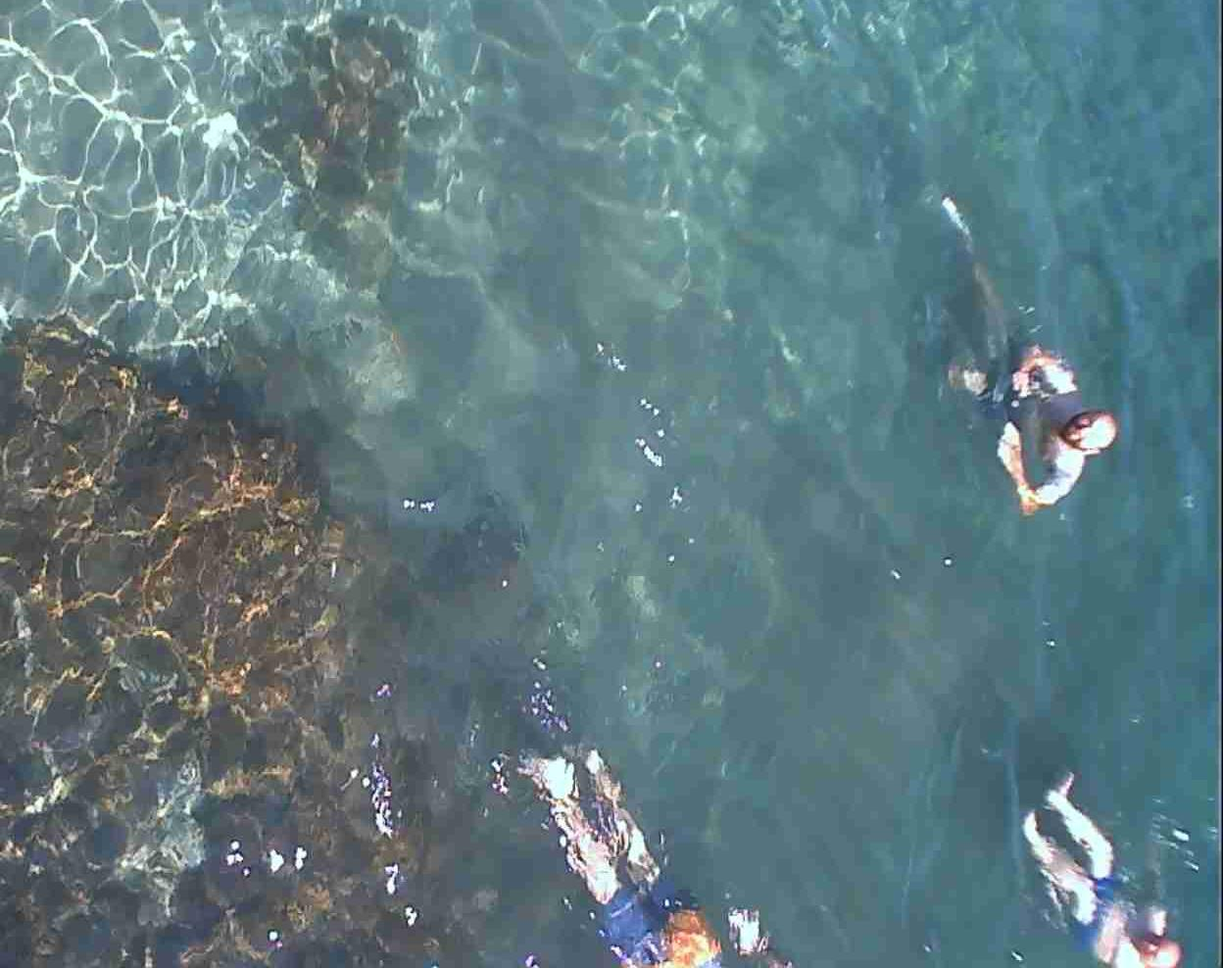swimmer: (968, 305, 1141, 573), (1, 1, 1, 1), (0, 1, 1, 1)
